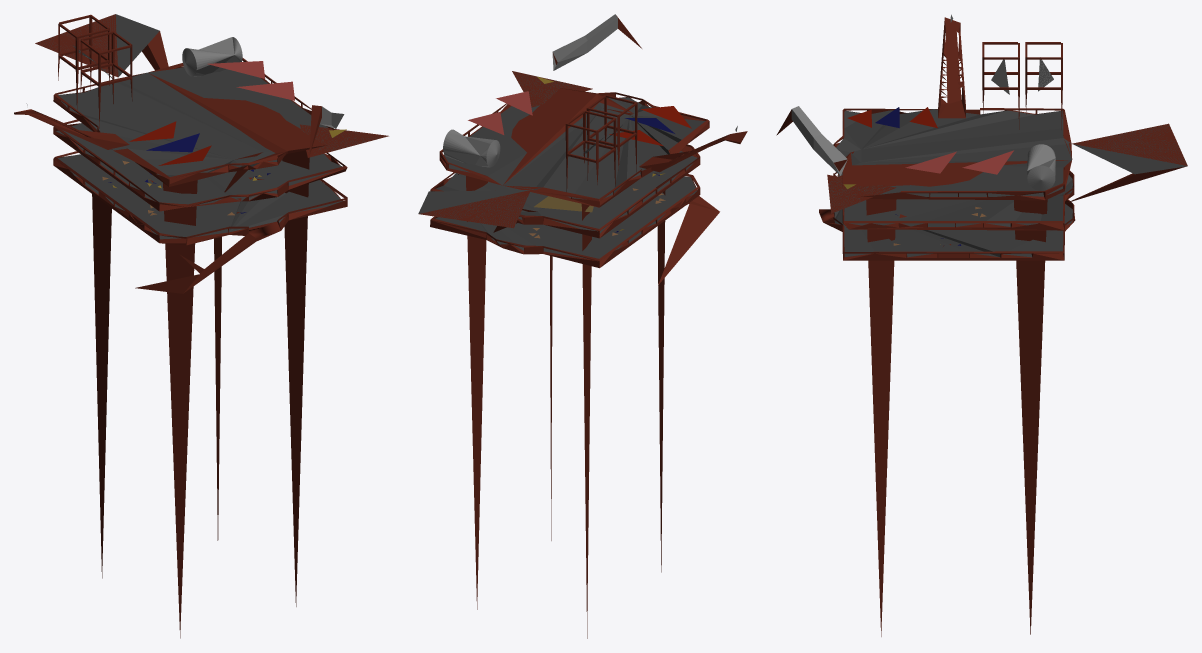
Rendered from oilrigLOD2.fbx.
3 views of the same model, side by side, from view 1: azimuth 30°, elevation 25°; view 2: azimuth 150°, elevation 25°; view 3: azimuth 270°, elevation 25° (orthographic). The views are drawn at different scales.
Parts seen in each view (by area): view 1: Cylinder.006; view 2: Cylinder.006; view 3: Cylinder.006.
Part boxes in pixels (box(x1,y1,x2,y2)): Cylinder.006: box(14, 14, 388, 638); Cylinder.006: box(418, 14, 747, 638); Cylinder.006: box(776, 14, 1187, 636).
Bounding box in the file's own units: 7149 × 12265 × 8646.
